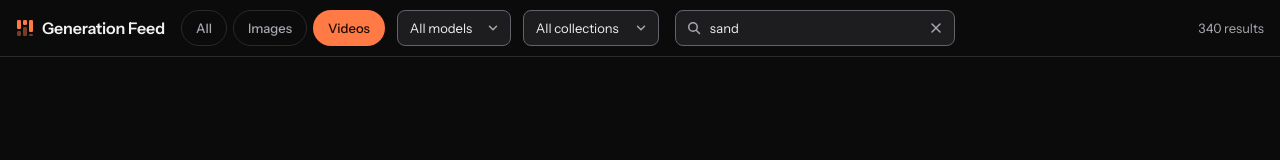
Scenario: Header › the clear button empties the search at once
The width and height of the screenshot is (1280, 160).
Expected: the search field named "Search prompts" holds "sand", 710,11 -> 914,45
Click the button named "Clear search": {"x": 936, "y": 28} 922,14 -> 950,42
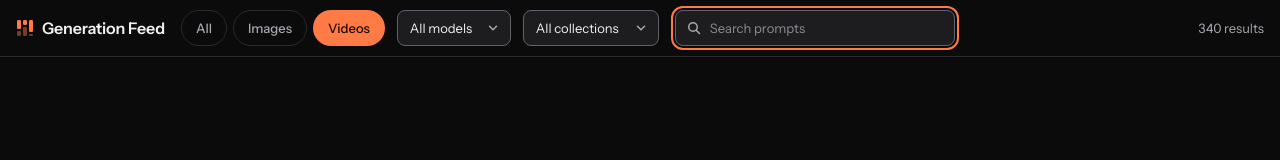
Expected: the search field labelled "Search prompts" is empty, 710,11 -> 950,45
